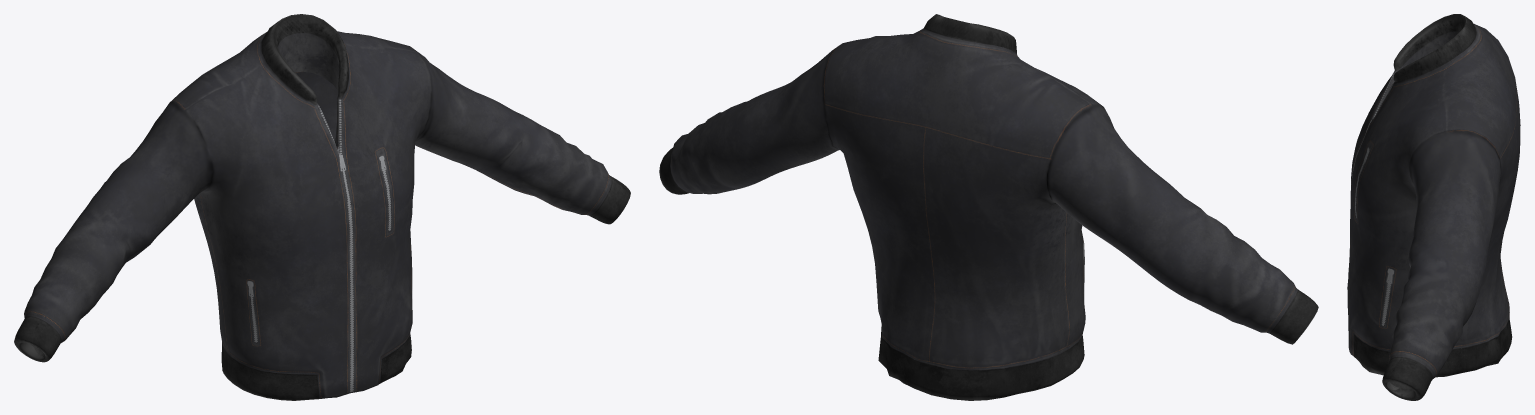
Rendered from grey_suede_jacket.glb.
3 renders of one model, left to right at view 1: azimuth 30°, elevation 25°; view 2: azimuth 150°, elevation 25°; view 3: azimuth 270°, elevation 25°, orthographic. The views are drawn at different scales.
Parts seen in each view (by area): view 1: Object_2; view 2: Object_2; view 3: Object_2.
Boxes of the visible parts, left/top/right/bottom form: Object_2: left=14, top=14, right=630, bottom=400; Object_2: left=659, top=14, right=1318, bottom=400; Object_2: left=1347, top=14, right=1520, bottom=400.
Bounding box in the file's own units: 5.35 × 2.82 × 1.36.
Materials: 1 (1 with a texture image).
